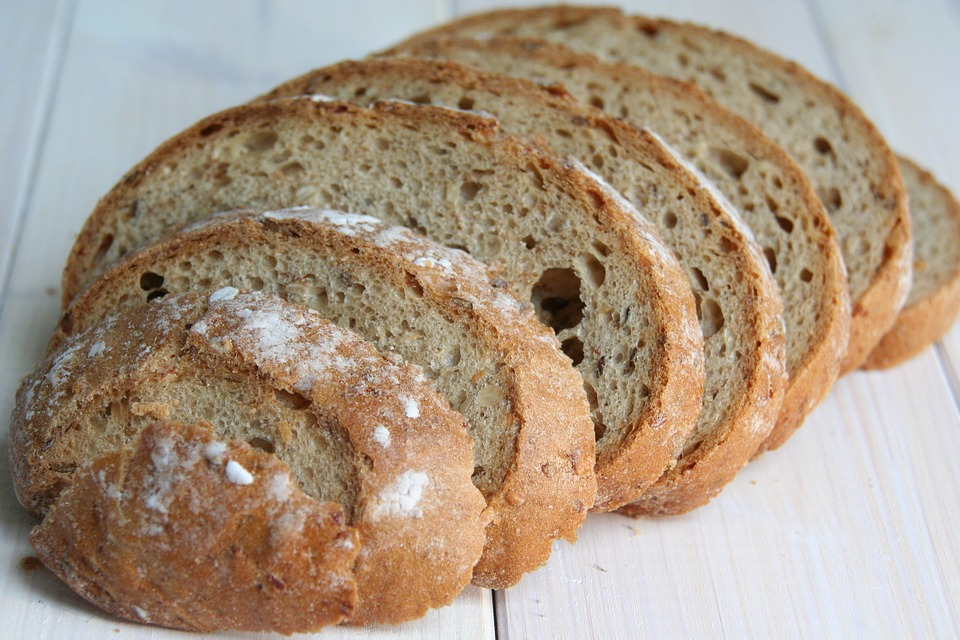slice of bread: (101, 105, 940, 471)
